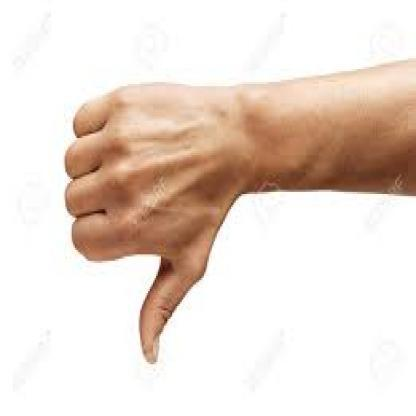thumb_down: (62, 72, 224, 368)
